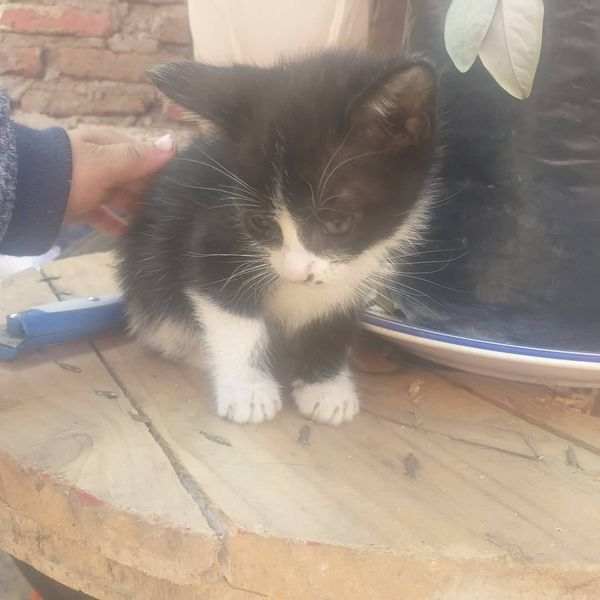cat: (107, 26, 468, 456)
